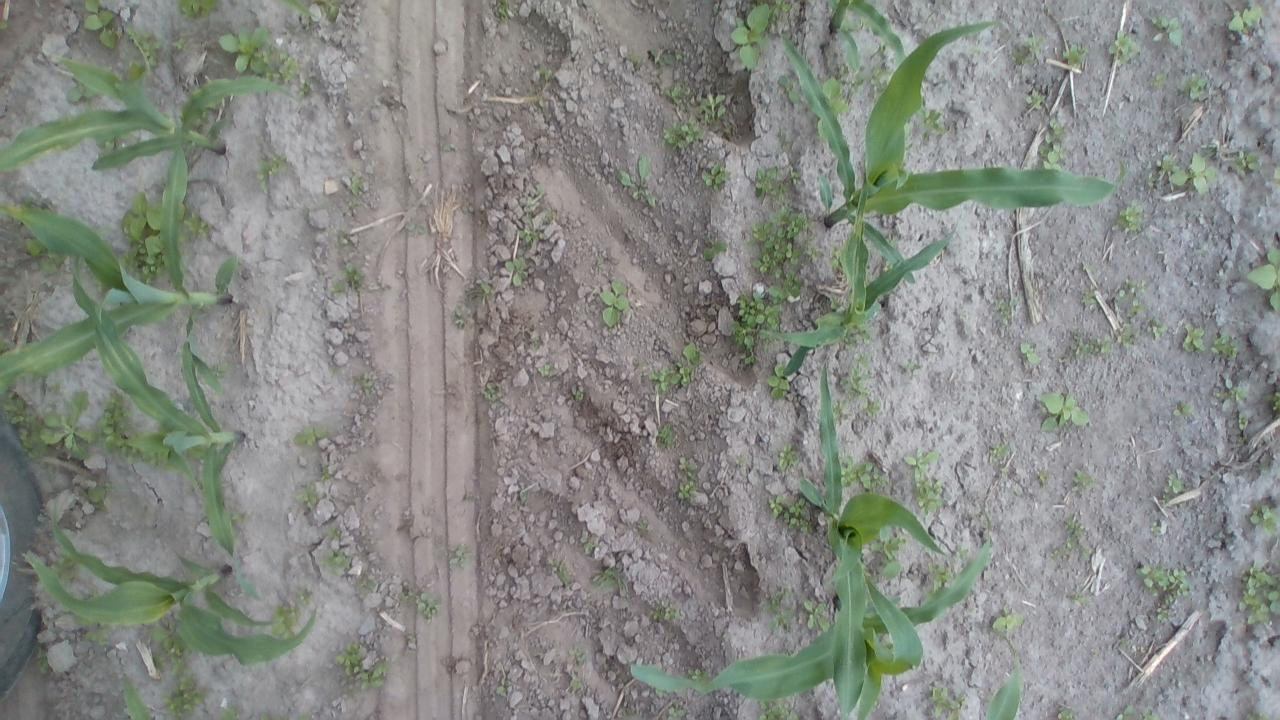Maize: (778, 21, 1126, 286), (630, 510, 990, 718), (1, 146, 237, 393), (798, 358, 948, 720), (70, 272, 248, 556), (21, 502, 318, 668), (755, 180, 958, 378), (0, 56, 301, 172), (828, 0, 906, 79), (988, 667, 1021, 720), (122, 673, 152, 720), (272, 0, 316, 19)
Weeds: (750, 204, 824, 302), (34, 388, 96, 456), (733, 295, 783, 371), (1135, 562, 1192, 624), (119, 188, 162, 269), (652, 341, 703, 398), (834, 358, 880, 421), (902, 446, 943, 515), (218, 24, 270, 78), (1239, 560, 1280, 627), (730, 4, 769, 72), (615, 153, 661, 209), (336, 641, 388, 689), (1244, 246, 1280, 314), (1114, 274, 1146, 348), (1038, 392, 1092, 433), (80, 0, 122, 50), (1171, 151, 1217, 196), (2, 391, 32, 457), (1050, 516, 1091, 564), (123, 28, 159, 81), (840, 456, 890, 494), (518, 184, 546, 248), (149, 624, 184, 674), (767, 494, 813, 530), (600, 276, 632, 327), (100, 389, 126, 450), (164, 678, 200, 718), (931, 687, 968, 720), (1150, 15, 1186, 48), (1112, 199, 1144, 236), (1066, 330, 1108, 358), (662, 118, 698, 150), (1108, 30, 1140, 64), (1226, 5, 1262, 35), (1250, 501, 1280, 537), (1232, 146, 1260, 184), (766, 588, 790, 632), (923, 560, 954, 592), (800, 598, 831, 630), (1178, 70, 1208, 103), (272, 602, 298, 640), (1158, 470, 1184, 508), (1012, 34, 1042, 66), (180, 0, 223, 22), (1148, 154, 1172, 193), (292, 423, 328, 448), (415, 590, 443, 622), (872, 536, 907, 561), (768, 364, 792, 399), (1040, 116, 1068, 146), (500, 260, 532, 286), (823, 76, 844, 114), (700, 93, 729, 120), (990, 611, 1024, 634), (256, 155, 286, 181), (1182, 322, 1204, 357), (754, 166, 777, 198), (760, 702, 800, 720), (777, 444, 801, 474), (320, 548, 350, 572), (349, 372, 376, 398), (778, 172, 798, 207), (183, 212, 211, 236), (921, 110, 946, 136), (1062, 44, 1088, 68), (590, 570, 620, 590), (701, 162, 725, 187), (648, 604, 677, 624), (276, 51, 294, 83), (294, 483, 316, 509), (1212, 338, 1238, 360), (701, 238, 727, 260), (655, 423, 676, 450), (66, 84, 94, 104), (1024, 90, 1047, 114), (768, 2, 794, 23), (1019, 341, 1042, 364), (450, 545, 470, 571), (1074, 465, 1094, 491), (662, 82, 684, 105), (987, 442, 1013, 460), (552, 559, 568, 588), (52, 558, 74, 579), (898, 360, 922, 379), (37, 645, 52, 675), (661, 50, 686, 68), (566, 646, 588, 666), (678, 480, 698, 502), (1146, 318, 1166, 340), (1044, 149, 1063, 172), (978, 508, 992, 538), (1079, 284, 1096, 308), (88, 486, 104, 511), (451, 304, 467, 329), (677, 457, 698, 476), (994, 298, 1012, 320), (86, 628, 110, 644), (319, 0, 339, 19), (882, 563, 902, 582), (1170, 400, 1192, 417), (345, 262, 363, 282), (1151, 71, 1167, 92), (169, 31, 186, 50), (482, 382, 498, 402), (259, 714, 312, 720), (1057, 704, 1076, 720), (337, 232, 357, 247), (1066, 592, 1087, 606), (294, 590, 312, 606), (24, 238, 40, 256), (870, 68, 884, 88), (319, 526, 342, 538), (1116, 705, 1134, 720), (686, 666, 705, 680), (1119, 632, 1132, 652), (360, 576, 376, 592), (1036, 469, 1052, 485), (629, 55, 645, 71), (217, 708, 238, 720), (568, 676, 584, 691), (667, 708, 686, 720), (584, 540, 598, 556), (319, 465, 332, 482), (952, 546, 969, 559), (1244, 710, 1266, 720), (479, 281, 494, 295), (497, 2, 508, 20), (968, 44, 983, 57), (540, 66, 552, 82), (1230, 388, 1246, 400), (537, 366, 551, 379), (1271, 393, 1280, 412), (298, 82, 310, 96), (570, 389, 585, 400), (1140, 711, 1158, 720), (232, 512, 248, 522), (639, 522, 649, 538), (348, 180, 360, 193), (442, 143, 458, 152), (1272, 166, 1280, 184), (1149, 520, 1161, 532), (334, 281, 346, 291), (495, 685, 506, 695), (736, 454, 746, 465), (0, 21, 10, 30), (1239, 416, 1249, 425), (104, 482, 115, 490)
